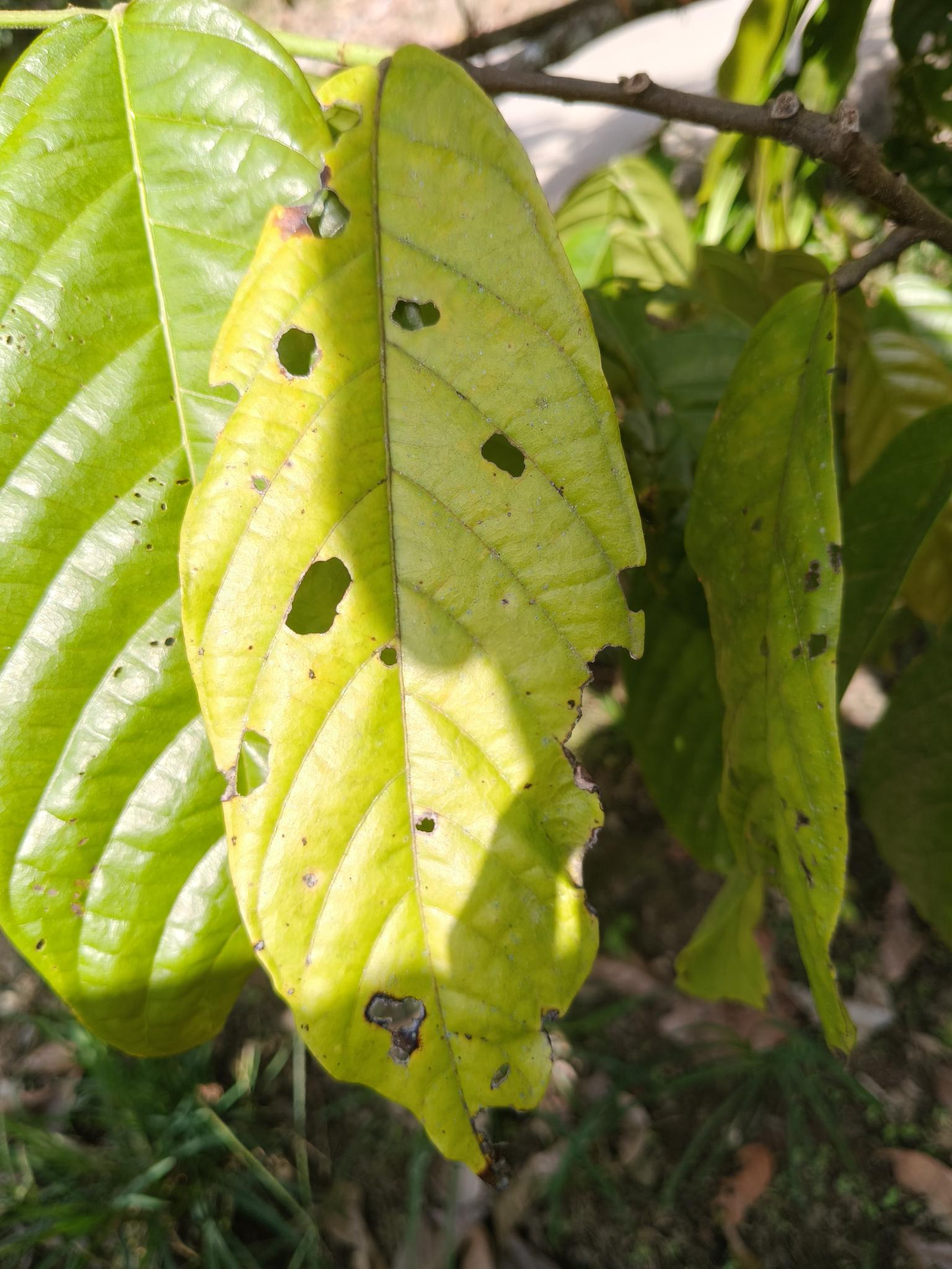Fosforo: (163, 23, 659, 1224)
